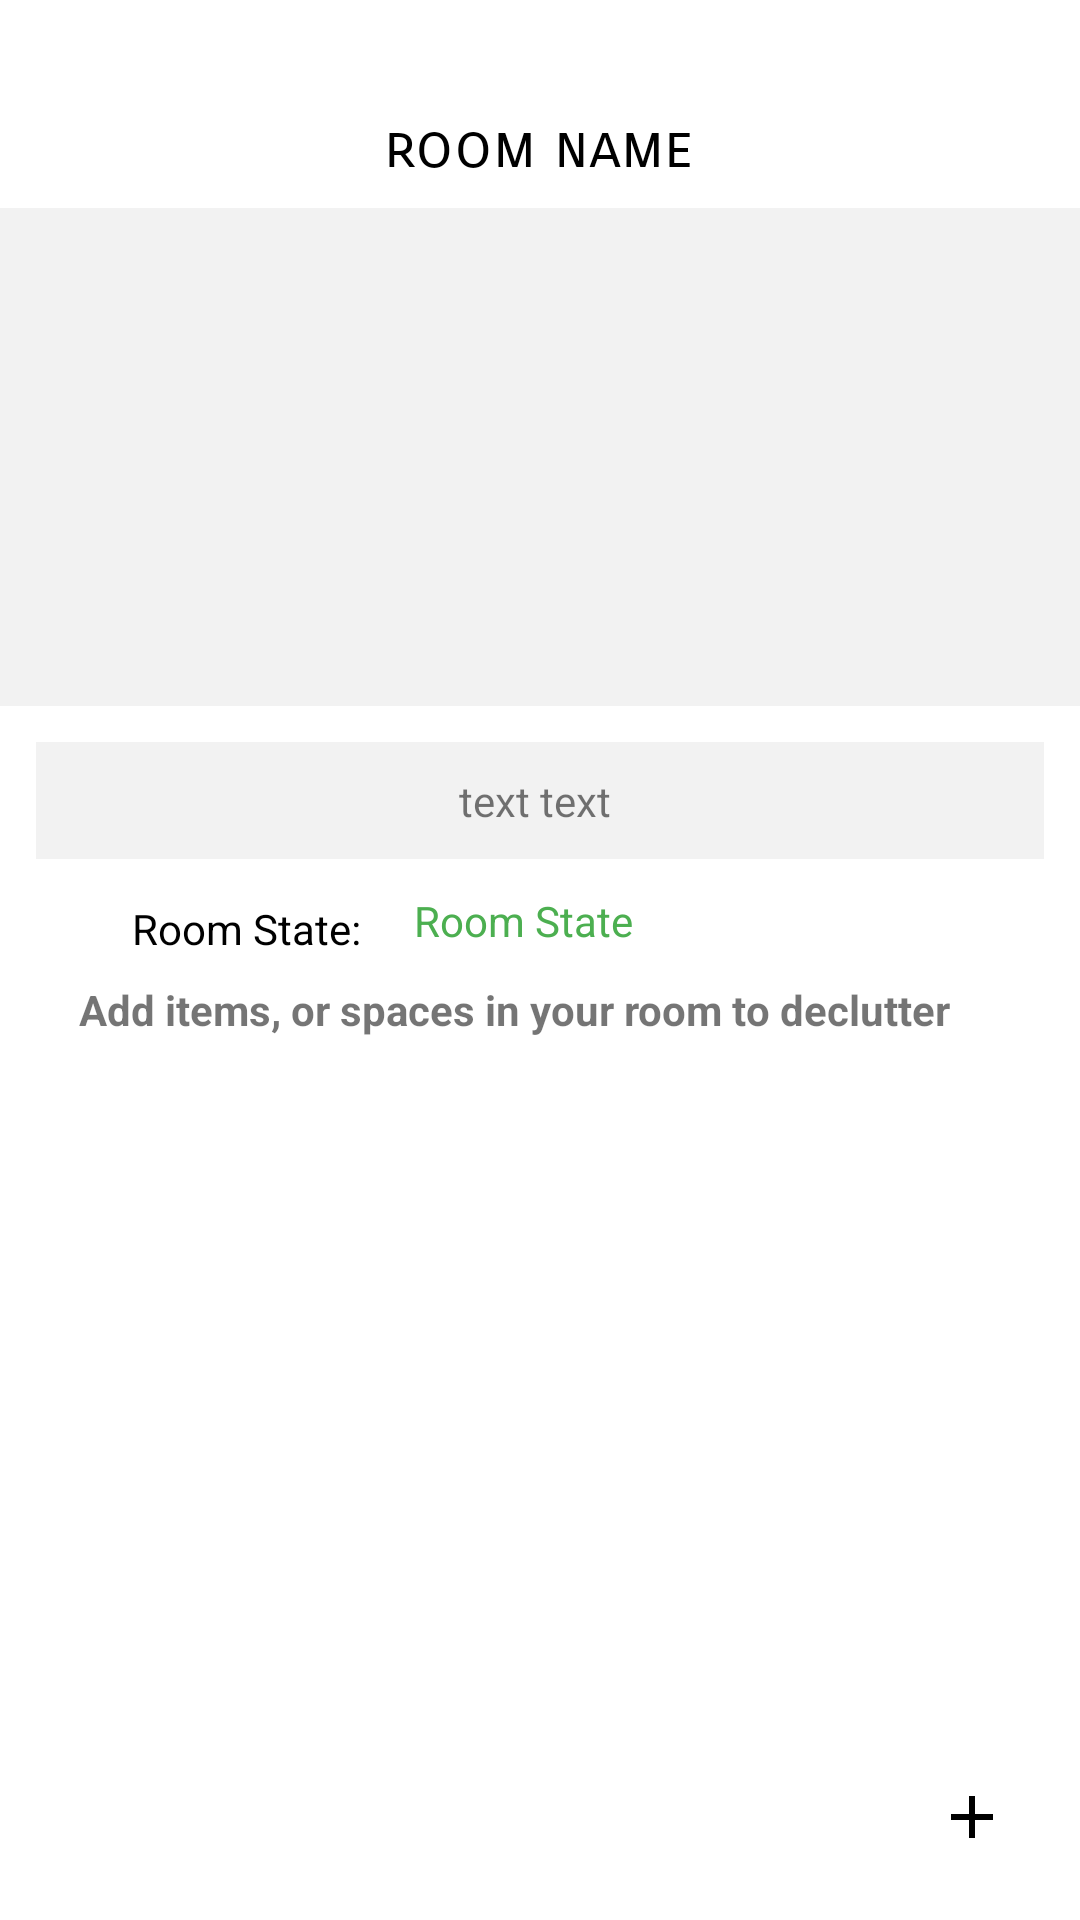

Where to tap for icons on this 1080 × 1920 app screen, as [x,y]:
add: [972,1817]
